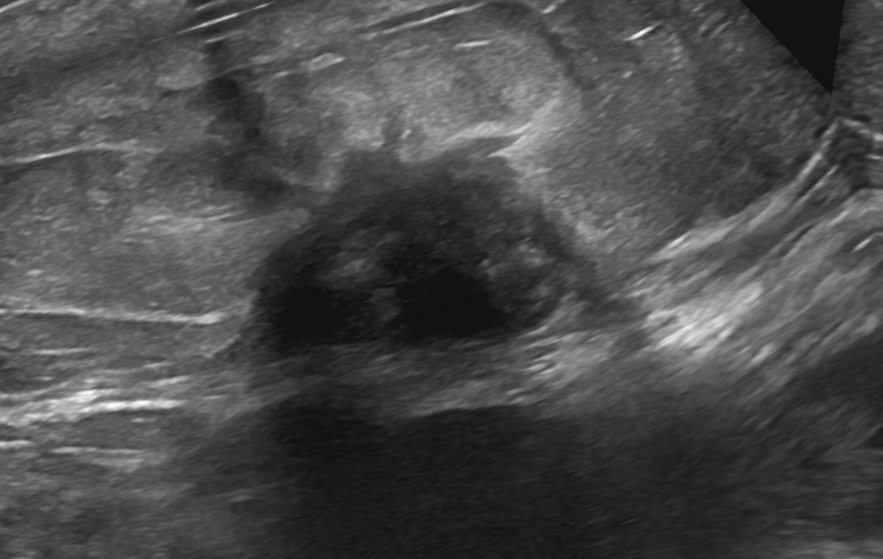Malignant: (279, 136, 559, 339)
